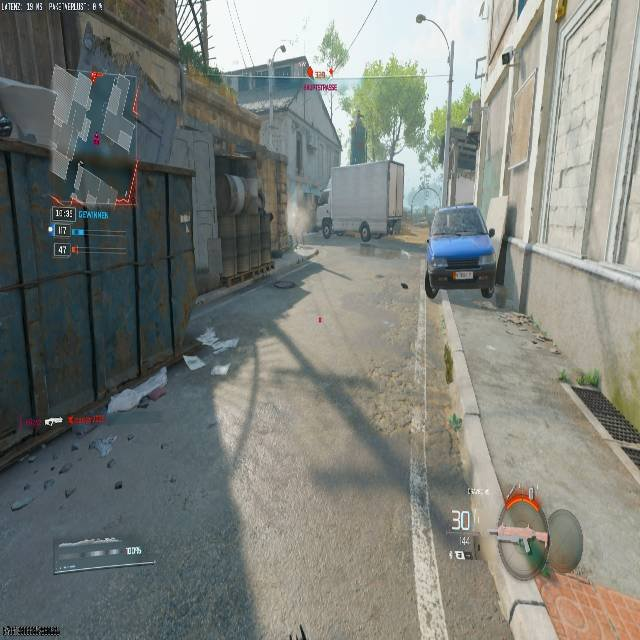player: (316, 208, 335, 240), (356, 218, 372, 248), (321, 214, 332, 240), (359, 220, 370, 240)
